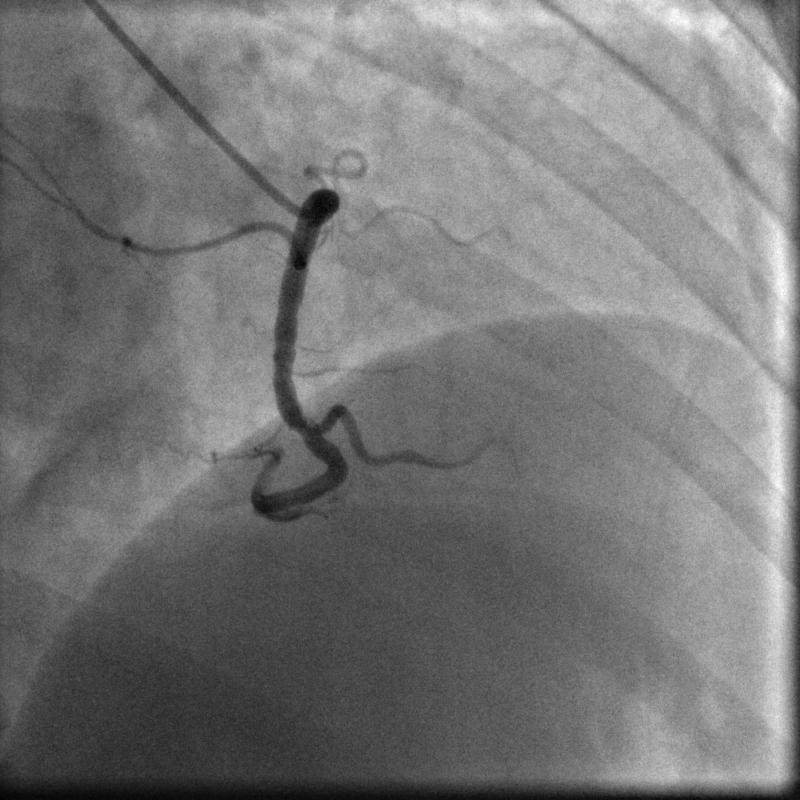Stenosis: (283, 417, 336, 444)
